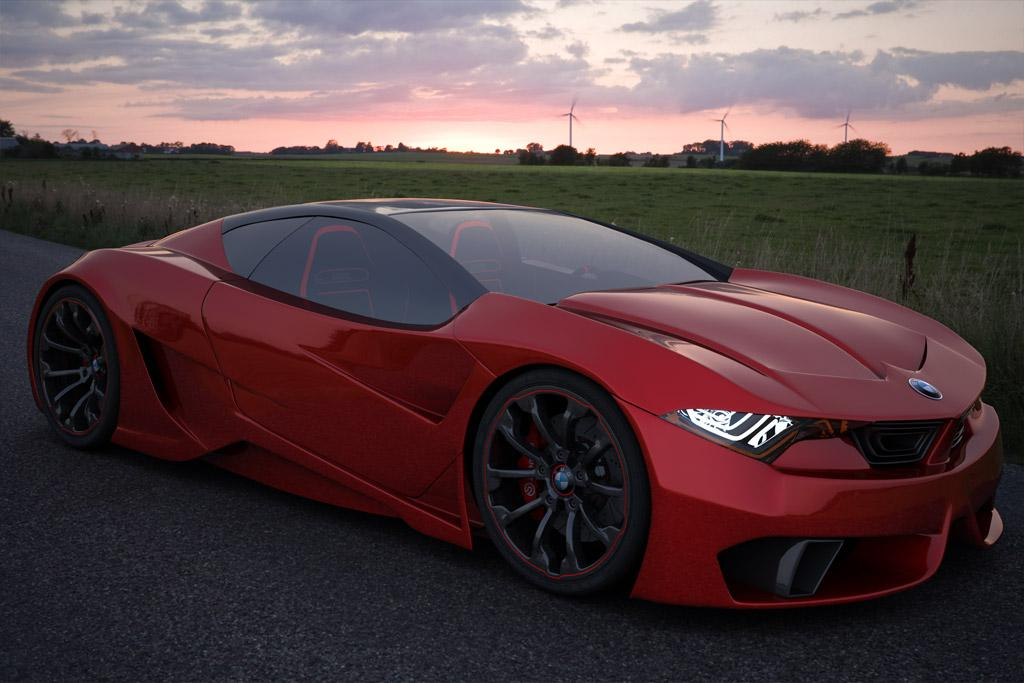small: (25, 194, 1005, 611)
